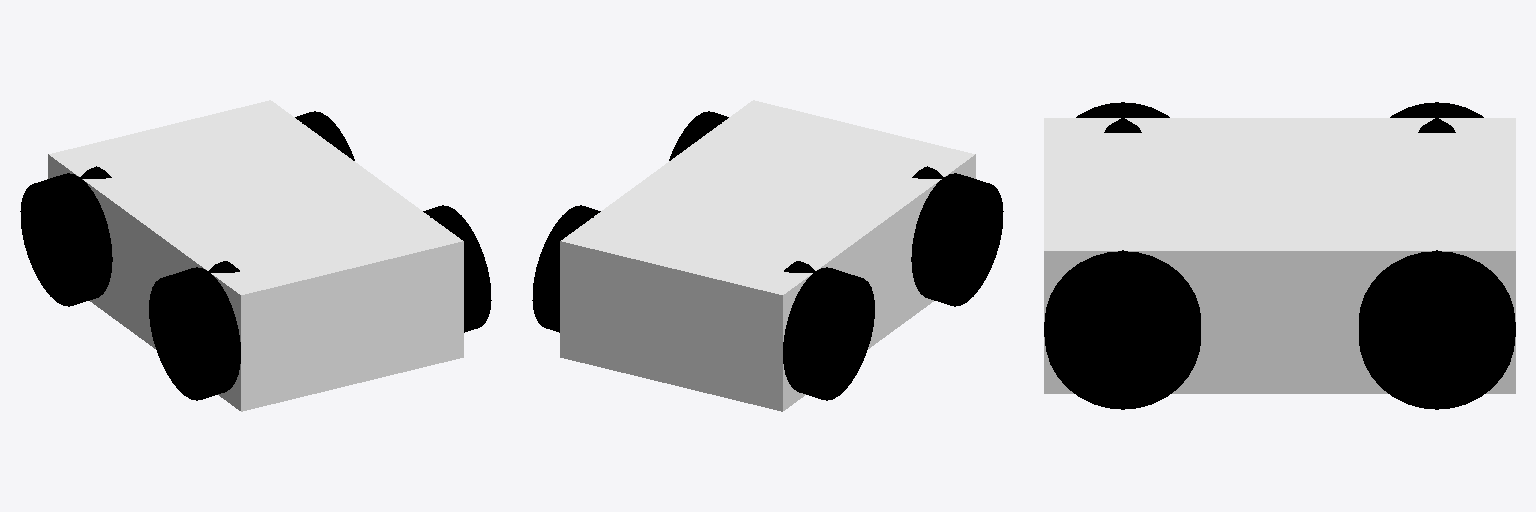
robot.urdf — Robot1:
<?xml version="1.0" ?>
<robot name="Robot1">
    <link name="base_link">
        <visual>
            <geometry>
                <box size="0.2 .3 .1" />
            </geometry>
            <origin rpy="0 0 0" xxyz="0 0 0.05" />
            <material name="white">
                <color rgba="1 1 1 1" />
            </material>
        </visual>
    </link>
    <link name="wheel_1">
        <visual>
            <geometry>
                <cylinder length="0.05" radius="0.05" />
            </geometry>
            <origin rpy="0 1.5 0" xyz="0.1 0.1 0" />
            <material name="black">
                <color rgba="0 0 0 1" />
            </material>
        </visual>
    </link>
    <link name="wheel_2">
        <visual>
            <geometry>
                <cylinder length="0.05" radius="0.05" />
            </geometry>
            <origin rpy="0 1.5 0" xyz="-0.1 0.1 0" />
            <material name="black" />
        </visual>
    </link>
    <link name="wheel_3">
        <visual>
            <geometry>
                <cylinder length="0.05" radius="0.05" />
            </geometry>
            <origin rpy="0 1.5 0" xyz="0.1 -0.1 0" />
            <material name="black" />
        </visual>
    </link>
    <link name="wheel_4">
        <visual>
            <geometry>
                <cylinder length="0.05" radius="0.05" />
            </geometry>
            <origin rpy="0 1.5 0" xyz="-0.1 -0.1 0" />
            <material name="black" />
        </visual>
    </link>
    <joint name="base_to_wheel1" type="fixed">
        <parent link="base_link" />
        <child link="wheel_1" />
        <origin xyz = "0 0 0" />
    </joint>
    <joint name="base_to_wheel2" type="fixed">
        <parent link="base_link" />
        <child link="wheel_2" />
        <origin xyz="0 0 0 " />
    </joint>
    <joint name="base_to_wheel3" type="fixed">
        <parent link="base_link" />
        <child link="wheel_3" />
        <origin xyz="0 0 0 " />
    </joint>
    <joint name="base_to_wheel4" type="fixed">
        <parent link="base_link" />
        <child link="wheel_4" />
        <origin xyz="0 0 0 " />
    </joint>
</robot>

--- Render facts (derived) ---
Views: 3 orthographic renders of the robot side by side, from view 1: azimuth 30°, elevation 25°; view 2: azimuth 150°, elevation 25°; view 3: azimuth 270°, elevation 25°.
Model Robot1 with 5 links and 4 joints (4 fixed), rooted at base_link, posed every joint at zero.
Visible links, largest first — view 1: base_link, wheel_4, wheel_2, wheel_3, wheel_1; view 2: base_link, wheel_2, wheel_4, wheel_1, wheel_3; view 3: base_link, wheel_1, wheel_3, wheel_2, wheel_4.
Link boxes in pixels (left/top/right/bottom): base_link: left=48, top=100, right=463, bottom=411; wheel_4: left=149, top=261, right=240, bottom=400; wheel_2: left=20, top=166, right=112, bottom=306; wheel_3: left=423, top=205, right=491, bottom=332; wheel_1: left=295, top=111, right=354, bottom=160; base_link: left=560, top=100, right=975, bottom=411; wheel_2: left=783, top=261, right=874, bottom=400; wheel_4: left=911, top=166, right=1003, bottom=306; wheel_1: left=532, top=205, right=600, bottom=332; wheel_3: left=669, top=111, right=728, bottom=160; base_link: left=1044, top=118, right=1515, bottom=393; wheel_1: left=1359, top=250, right=1515, bottom=409; wheel_3: left=1044, top=250, right=1200, bottom=409; wheel_2: left=1390, top=102, right=1483, bottom=132; wheel_4: left=1076, top=102, right=1169, bottom=132.
Bounding box of the posed robot: 0.2569 × 0.3 × 0.1033 m (x, y, z).
Geometry: primitives only (box / cylinder / sphere), no mesh files.